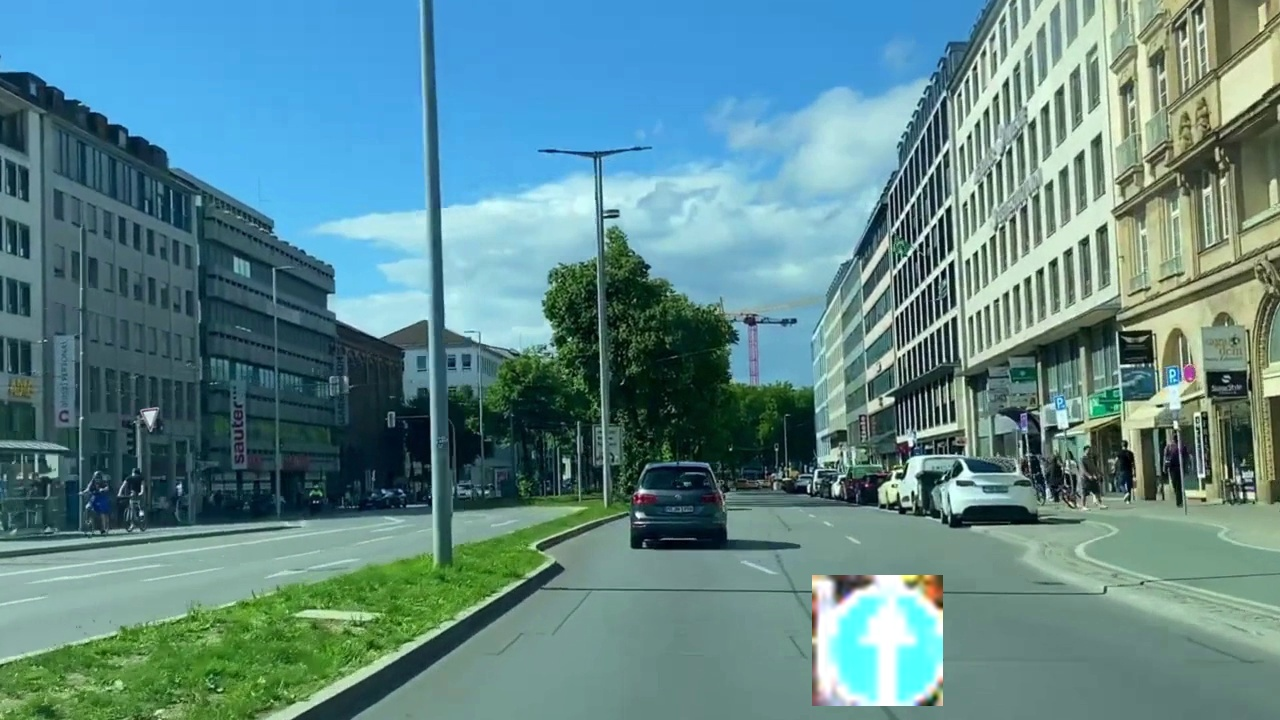Ahead only: (812, 575, 943, 706)
